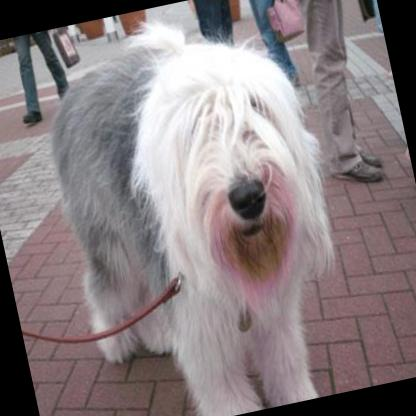Old_English_sheepdog: (23, 0, 369, 416)
